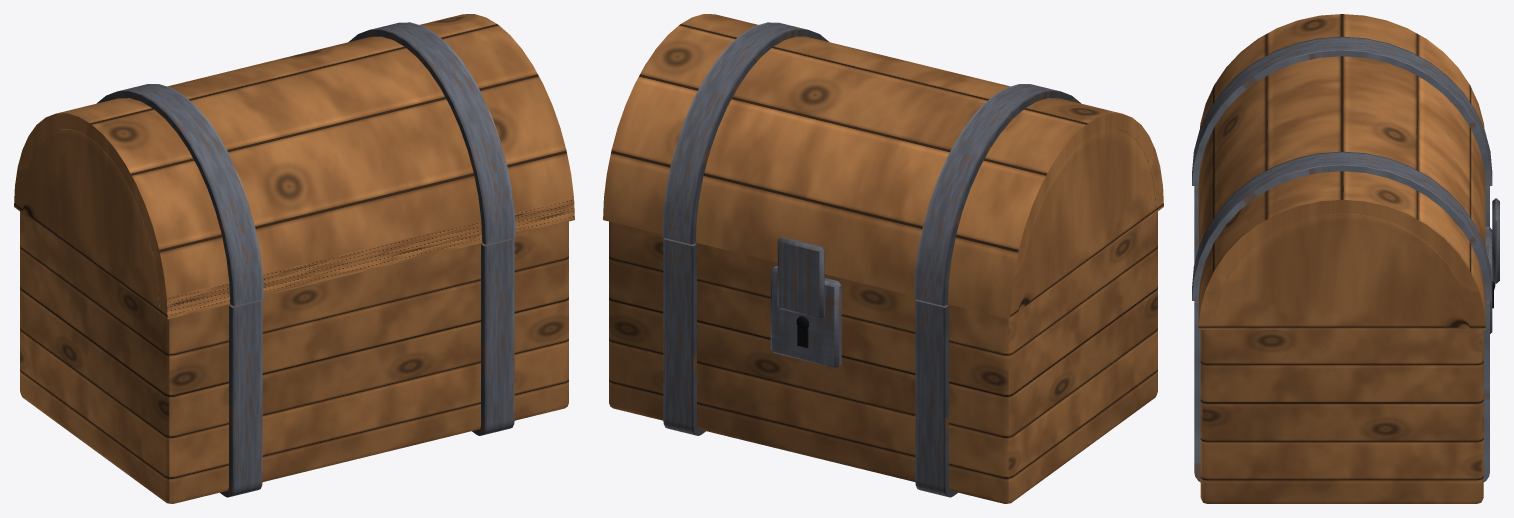
File: Chest_Common.fbx
3 renders of one model, left to right at view 1: azimuth 30°, elevation 25°; view 2: azimuth 150°, elevation 25°; view 3: azimuth 270°, elevation 25°, orthographic. The views are drawn at different scales.
Parts seen in each view (by area): view 1: Lid, Base; view 2: Lid, Base; view 3: Lid, Base.
Part boxes in pixels (x1,y1,x2,y2): Lid: (14,14,574,319); Base: (20,211,568,503); Lid: (603,14,1163,319); Base: (609,211,1157,503); Lid: (1192,14,1499,329); Base: (1194,186,1495,503).
Size of the model in its own units: 4.04 by 3.24 by 2.83.
1 material, 1 textured.
